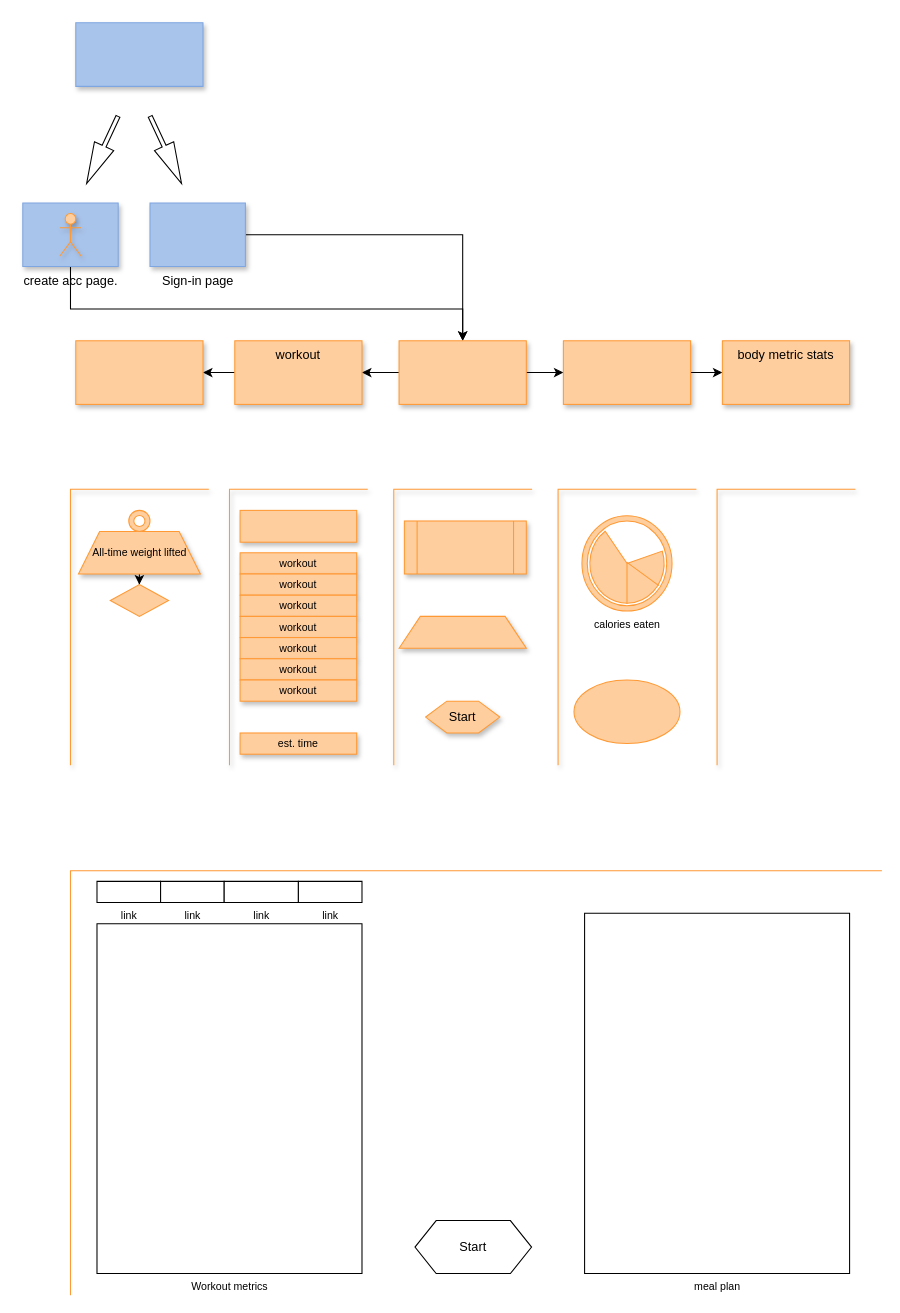
Some shapes in this 900 by 1313 pixel diagram are drawn without their labels. Each missing label, with the centre of its shape:
calorie counter: the point at 627,373
fun stats: the point at 139,600
homepage: the point at 463,373
Opening page: the point at 139,55
Quote: the point at 466,548
Today's work:: the point at 299,527
Weeks w/o break: the point at 463,633
workout stats: the point at 139,373
